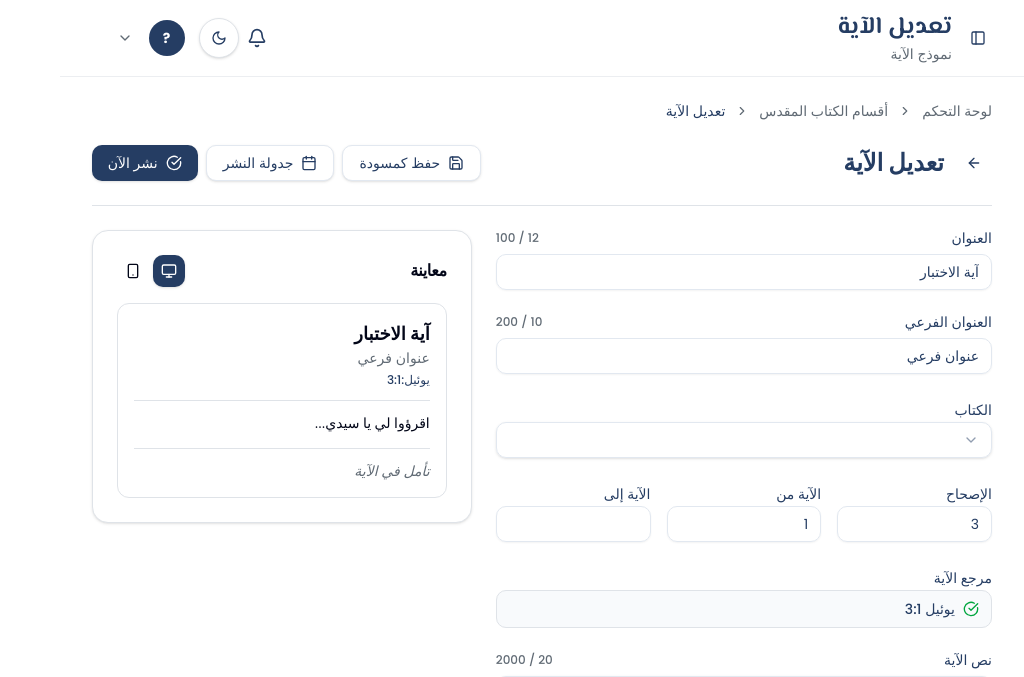
Scenario: the form of a verse › refuses to save a verse without a title
The width and height of the screenshot is (1024, 677).
Step 1. Clear the field showing "آية الاختبار" → coordinates (744, 272), box [496,254,992,290]
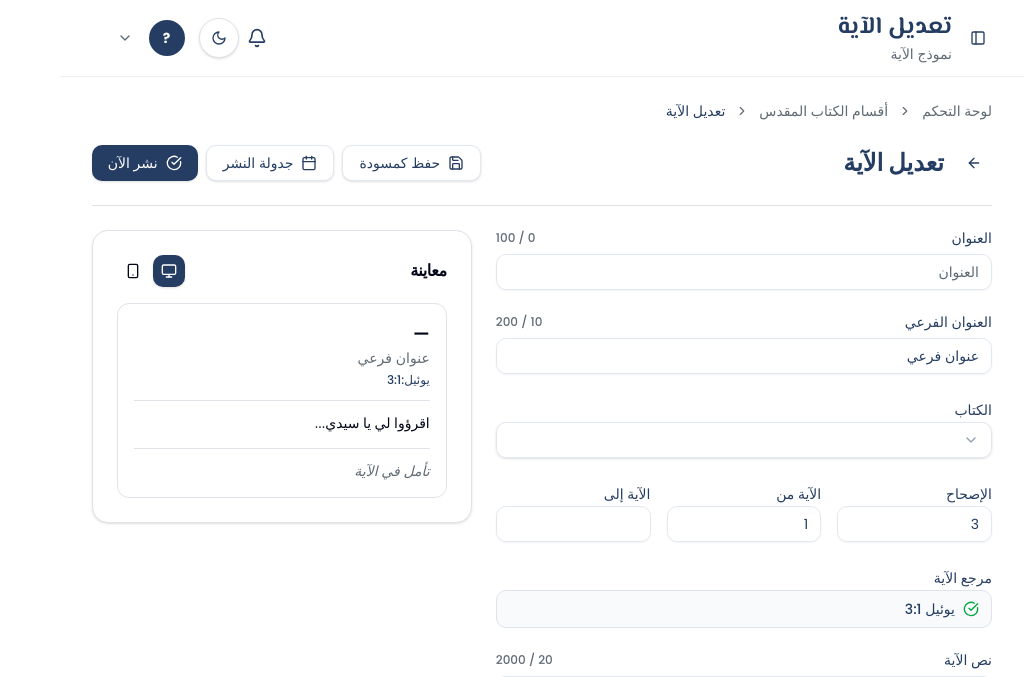
Step 2. Click the button "حفظ كمسودة" → coordinates (412, 163), box [342,145,481,181]
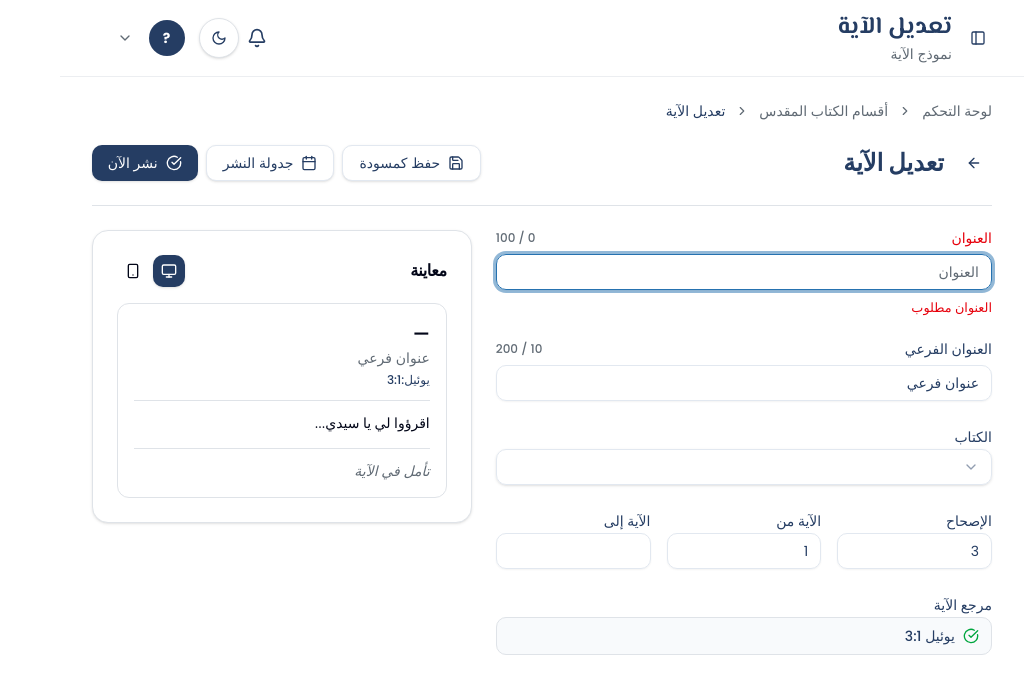
Expected: the text "العنوان مطلوب" is shown, [911,299,992,316]
